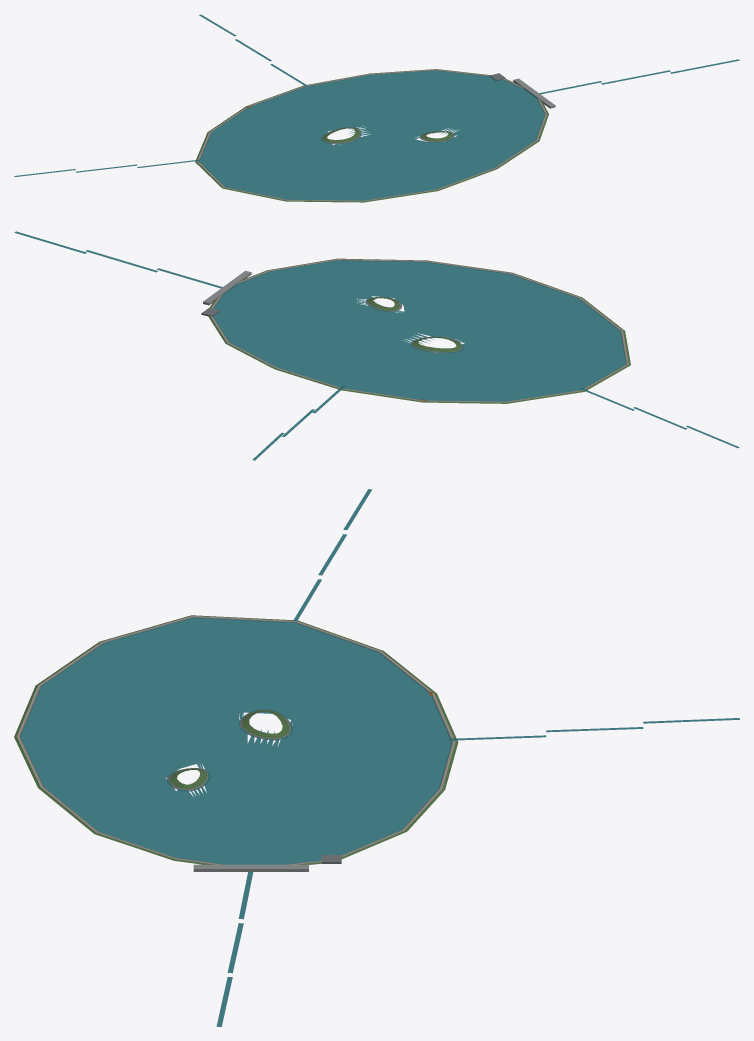
The model's file is water_ho_tram_hanh_phat_chi.glb.
The picture shows the model from 3 angles, top to bottom: view 1: azimuth 30°, elevation 25°; view 2: azimuth 150°, elevation 25°; view 3: azimuth 270°, elevation 25°; orthographic projection. The views are drawn at different scales.
Parts seen in each view (by area): view 1: water_surface_water_ho_tram_hanh_phat_chi, shoreline_terrain_transition_verge_water_ho_tram_hanh_phat_c, lakeside_promenade_walkway_water_ho_tram_hanh_phat_chi, embankment_stone_coping_water_ho_tram_hanh_phat_chi, headwater_terraces_stream_tram_hanh_east_spillway_to_dran, headwater_terraces_stream_tram_hanh_west_tea_terrace_inflow; view 2: water_surface_water_ho_tram_hanh_phat_chi, shoreline_terrain_transition_verge_water_ho_tram_hanh_phat_c, lakeside_promenade_walkway_water_ho_tram_hanh_phat_chi, embankment_stone_coping_water_ho_tram_hanh_phat_chi, headwater_terraces_stream_tram_hanh_east_spillway_to_dran, embankment_stone_slope_water_ho_tram_hanh_phat_chi, headwater_terraces_stream_tram_hanh_west_tea_terrace_inflow; view 3: water_surface_water_ho_tram_hanh_phat_chi, shoreline_terrain_transition_verge_water_ho_tram_hanh_phat_c, lakeside_promenade_walkway_water_ho_tram_hanh_phat_chi, embankment_stone_coping_water_ho_tram_hanh_phat_chi, tram_hanh_main_irrigation_earth_dam_crest, headwater_terraces_stream_tram_hanh_east_spillway_to_dran.
Part boxes in pixels (x1,y1,x2,y2): water_surface_water_ho_tram_hanh_phat_chi: [199, 70, 544, 200]; shoreline_terrain_transition_verge_water_ho_tram_hanh_phat_c: [195, 69, 548, 202]; lakeside_promenade_walkway_water_ho_tram_hanh_phat_chi: [197, 69, 546, 201]; embankment_stone_coping_water_ho_tram_hanh_phat_chi: [198, 70, 545, 200]; headwater_terraces_stream_tram_hanh_east_spillway_to_dran: [539, 59, 739, 94]; headwater_terraces_stream_tram_hanh_west_tea_terrace_inflow: [14, 159, 199, 176]; water_surface_water_ho_tram_hanh_phat_chi: [213, 260, 626, 401]; shoreline_terrain_transition_verge_water_ho_tram_hanh_phat_c: [208, 258, 630, 403]; lakeside_promenade_walkway_water_ho_tram_hanh_phat_chi: [210, 259, 628, 402]; embankment_stone_coping_water_ho_tram_hanh_phat_chi: [212, 260, 626, 401]; headwater_terraces_stream_tram_hanh_east_spillway_to_dran: [14, 231, 222, 288]; embankment_stone_slope_water_ho_tram_hanh_phat_chi: [213, 260, 626, 363]; headwater_terraces_stream_tram_hanh_west_tea_terrace_inflow: [579, 388, 739, 448]; water_surface_water_ho_tram_hanh_phat_chi: [20, 617, 452, 864]; shoreline_terrain_transition_verge_water_ho_tram_hanh_phat_c: [14, 615, 458, 870]; lakeside_promenade_walkway_water_ho_tram_hanh_phat_chi: [17, 616, 455, 864]; embankment_stone_coping_water_ho_tram_hanh_phat_chi: [19, 617, 453, 864]; tram_hanh_main_irrigation_earth_dam_crest: [193, 864, 308, 871]; headwater_terraces_stream_tram_hanh_east_spillway_to_dran: [216, 872, 253, 1026].
Bounding box in the file's own units: 2437 × 50 × 1445.
